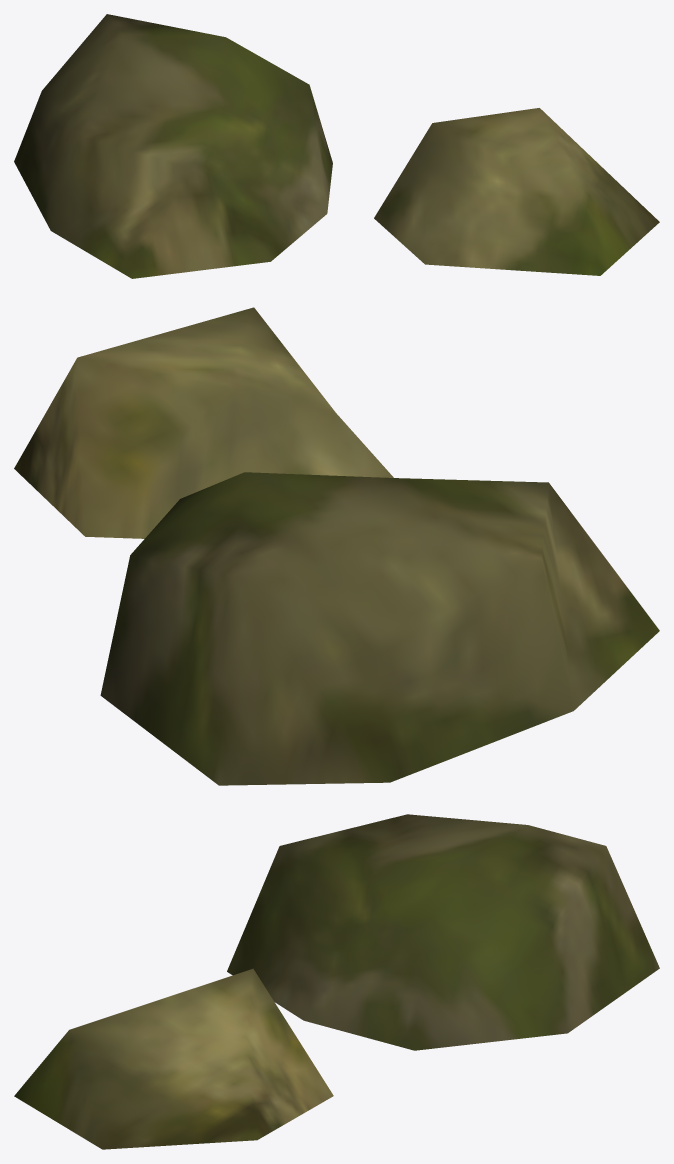
Rendered from mesh_quingming_stone02.FBX.
3 renders of one model, top to bottom at view 1: azimuth 30°, elevation 25°; view 2: azimuth 150°, elevation 25°; view 3: azimuth 270°, elevation 25°, orthographic. The views are drawn at different scales.
Parts seen in each view (by area): view 1: mesh_quingming_stone02; view 2: mesh_quingming_stone02; view 3: mesh_quingming_stone02.
Part boxes in pixels (<box>): mesh_quingming_stone02: <box>14,14,659,278</box>; mesh_quingming_stone02: <box>14,307,659,785</box>; mesh_quingming_stone02: <box>14,814,659,1149</box>.
Bounding box in the file's own units: 1.03 × 0.2726 × 1.13.
